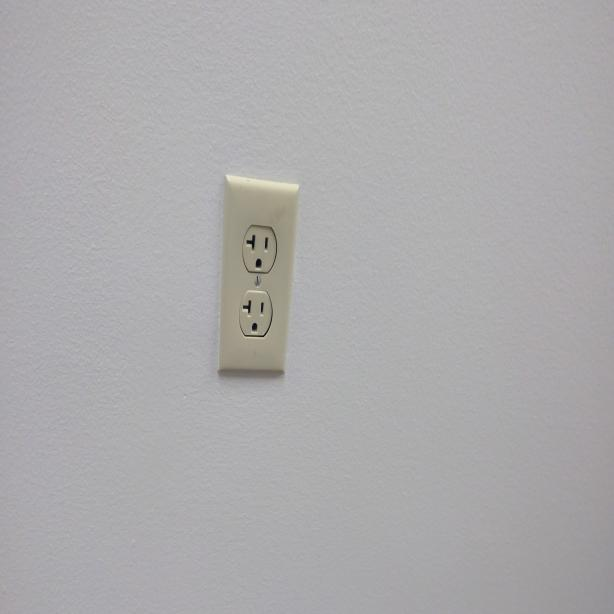typeb: (240, 224, 275, 273), (236, 292, 273, 338)
